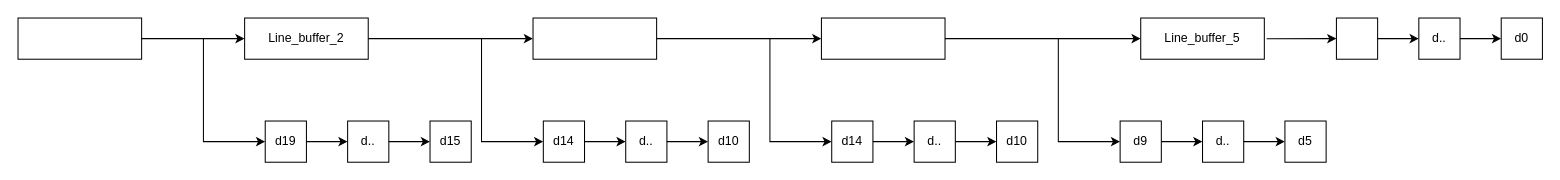
Image size: 1560x180. Some labels were removed from this diagram. Here are the shapes that lost their labels. From the top down, the centre of each, then its label:
At (x=79, y=38): "Line_buffer_1".
At (x=594, y=38): "Line_buffer_3".
At (x=882, y=38): "Line_buffer_4".
At (x=1356, y=38): "d4".
